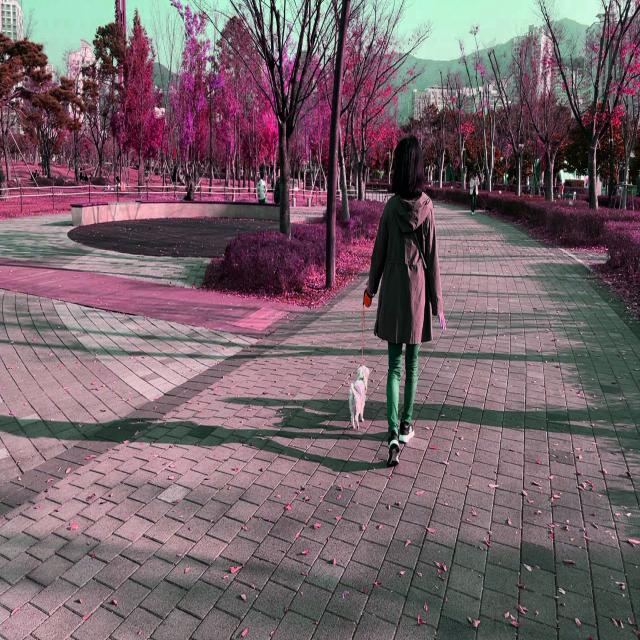Leashed_Dog: (348, 268, 396, 431)
